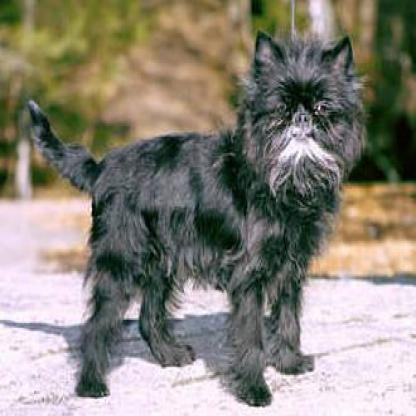affenpinscher: (24, 25, 374, 405)
